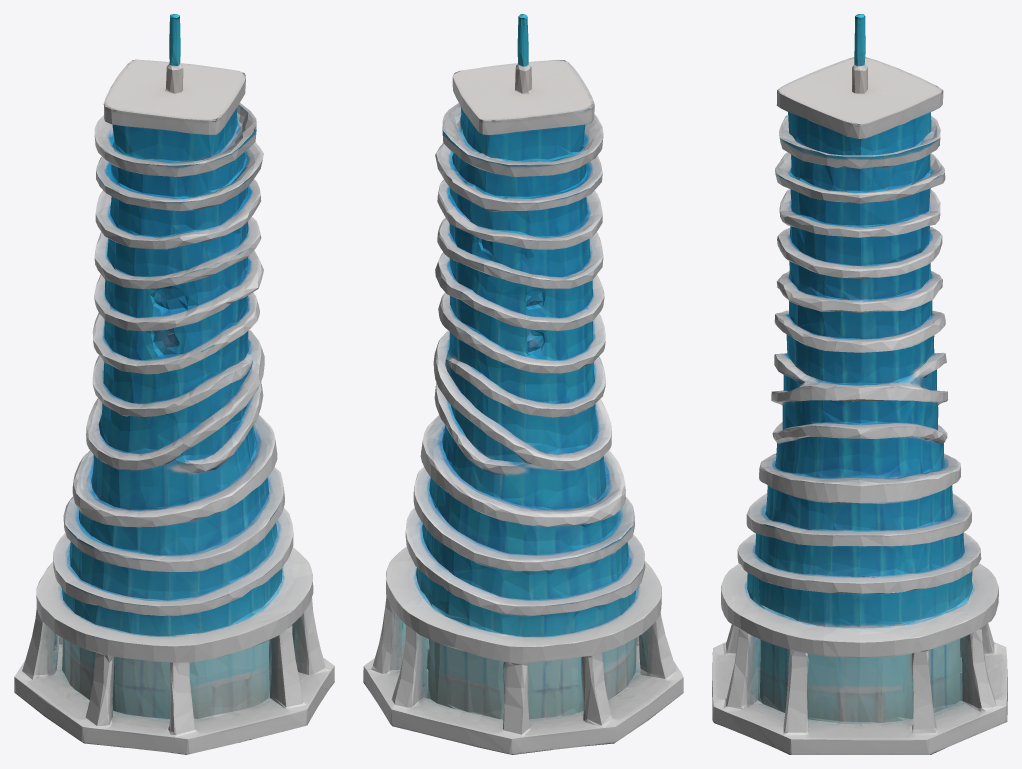
Rendered from skyscraper_twist.glb.
The picture shows the model from 3 angles, left to right: view 1: azimuth 30°, elevation 25°; view 2: azimuth 150°, elevation 25°; view 3: azimuth 270°, elevation 25°; orthographic projection.
Visible parts, largest first — view 1: geometry_0; view 2: geometry_0; view 3: geometry_0.
Part boxes in pixels (bbox=[...]): geometry_0: bbox=[14, 14, 334, 754]; geometry_0: bbox=[363, 14, 683, 754]; geometry_0: bbox=[712, 14, 1007, 754].
Bounding box in the file's own units: 0.3956 × 1 × 0.3953.
Materials: 1 (1 with a texture image).
